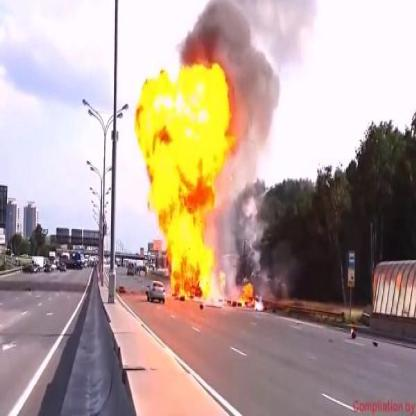fire: (132, 56, 233, 302), (237, 279, 255, 308)
